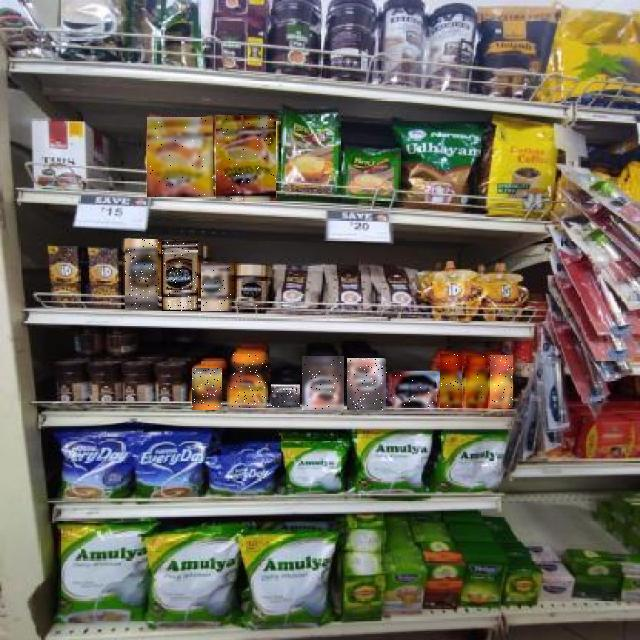Coffee: (147, 117, 213, 197), (216, 116, 276, 200), (162, 240, 198, 311), (126, 240, 160, 310), (302, 356, 344, 410), (227, 354, 268, 408), (348, 358, 388, 410), (392, 372, 436, 408), (202, 263, 234, 311), (238, 264, 267, 313), (192, 368, 222, 410), (490, 355, 513, 408), (441, 354, 463, 408), (466, 355, 488, 408), (271, 384, 300, 407)
